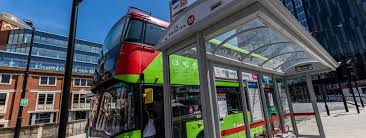bus: (87, 6, 278, 138)
